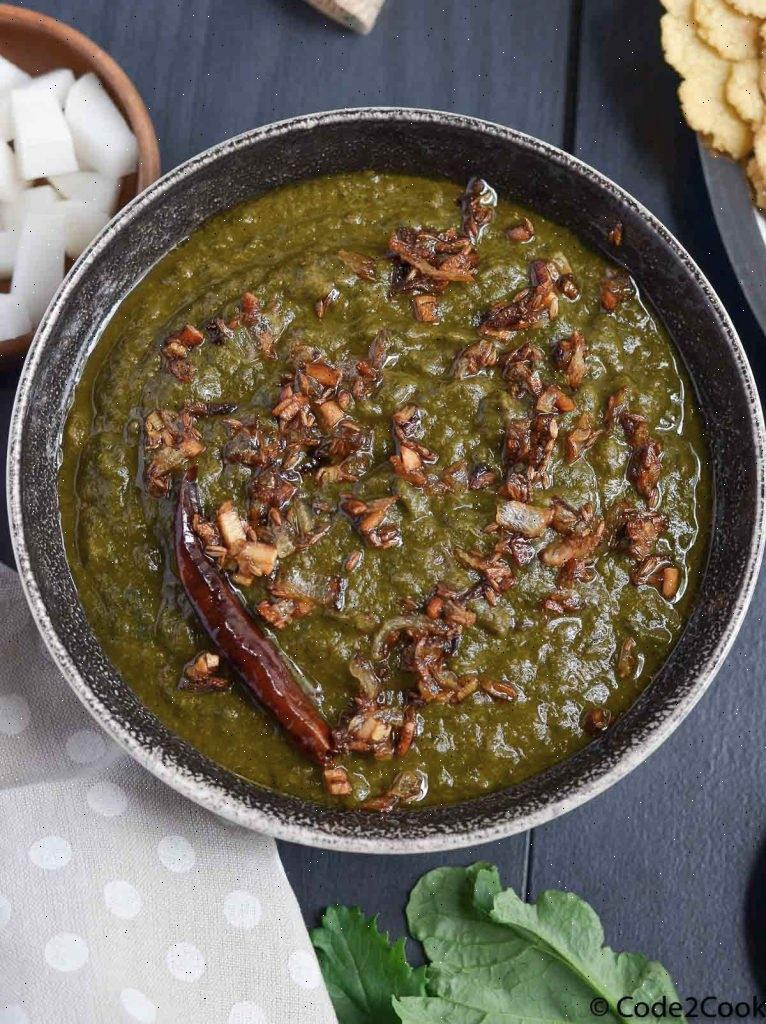saag: (78, 164, 705, 824)
